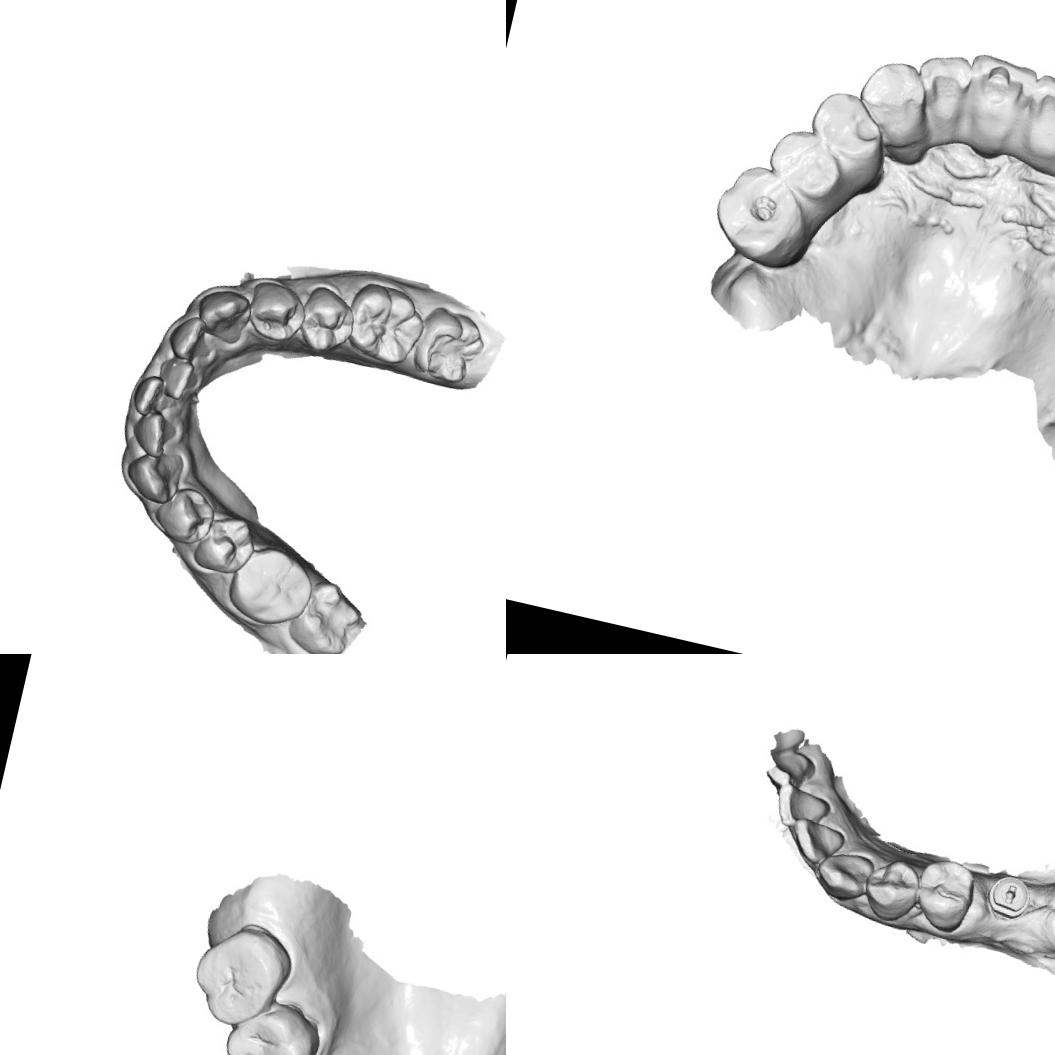canine: (849, 52, 939, 150), (811, 840, 876, 908), (119, 444, 187, 508), (190, 284, 255, 347)
implant_minus: (984, 872, 1035, 923)
incisor: (955, 48, 1041, 143), (905, 46, 978, 136), (768, 780, 840, 838), (785, 816, 852, 876), (1016, 71, 1055, 170), (164, 310, 218, 365), (761, 744, 818, 794), (126, 406, 176, 460), (152, 352, 203, 404), (128, 371, 170, 421)
molar: (183, 916, 296, 1036), (704, 156, 818, 272), (222, 538, 320, 633), (759, 122, 851, 214), (341, 278, 432, 369), (409, 301, 492, 389), (212, 993, 324, 1055), (282, 574, 368, 654)
premolar: (801, 85, 891, 172), (910, 854, 980, 936), (293, 282, 362, 358), (242, 277, 312, 347), (190, 510, 260, 580), (150, 480, 220, 550), (860, 854, 921, 924)
